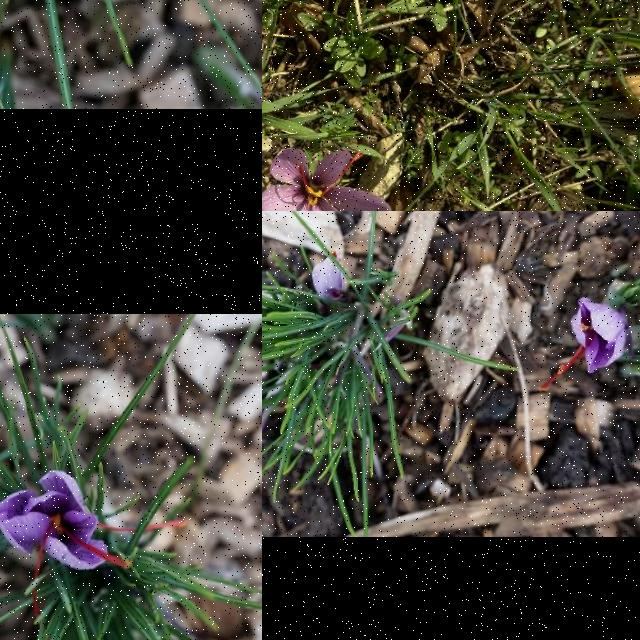flower: (0, 470, 190, 616), (262, 147, 392, 211), (540, 298, 626, 392)
